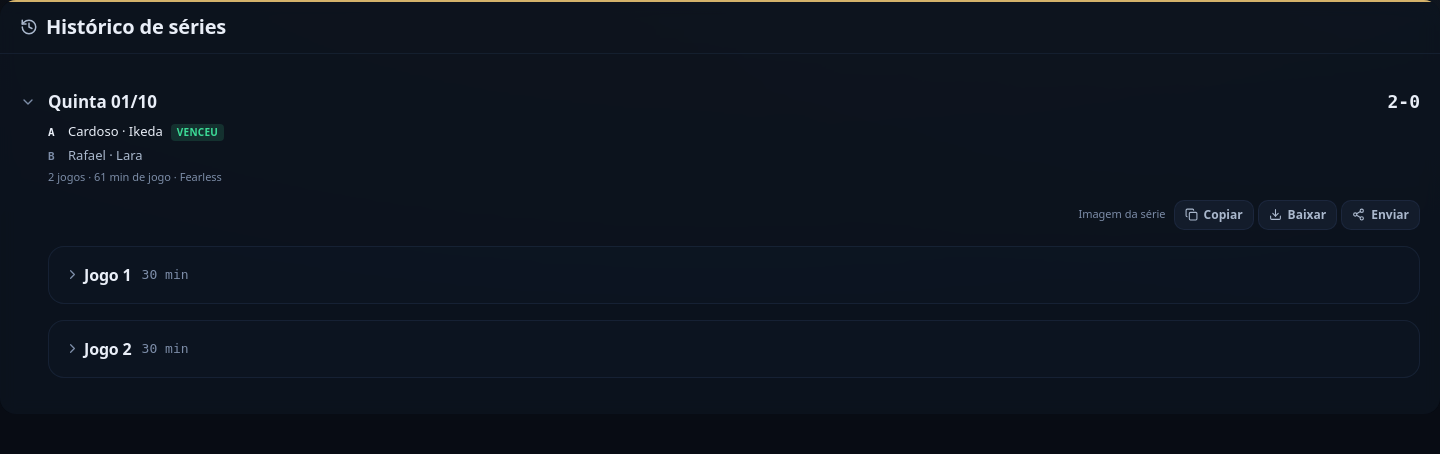
Test: Histórico no celular › tocar no jogo abre e fecha
The width and height of the screenshot is (1440, 454).
Expected: the heading "Jogo 1" is shown, [65,262,132,286]
Click the button "Jogo 1": (98, 274) [65,256,132,292]
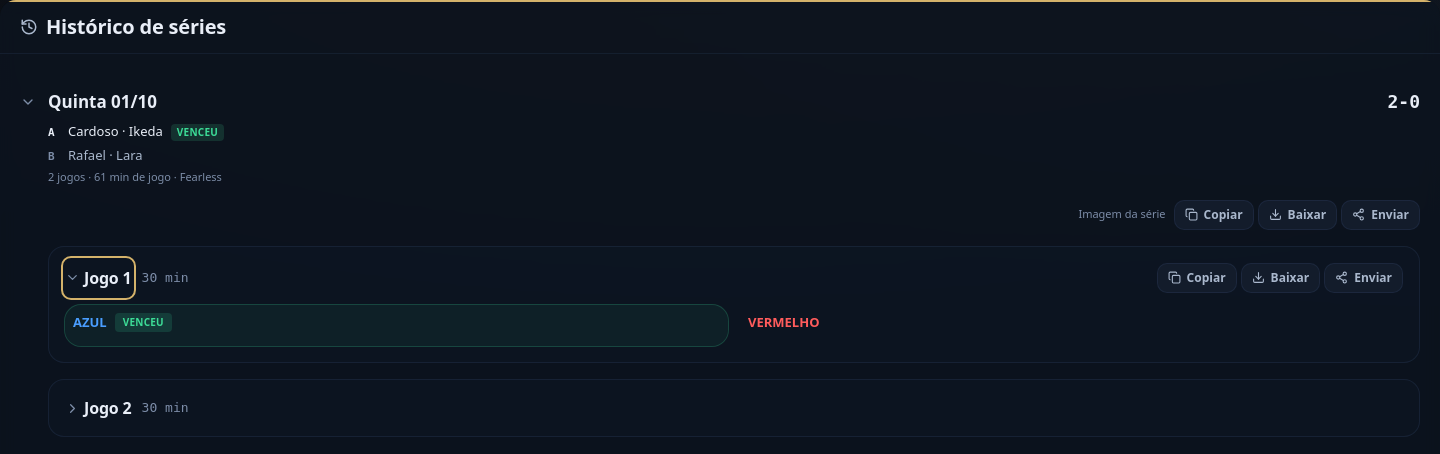
Expected: the button "Baixar" in the row of "Imagem da série" is shown, [1258,200,1337,230]
Now the button "Jogo 1" is expanded
Click the button "Jogo 1": (98, 278) [65,260,132,296]
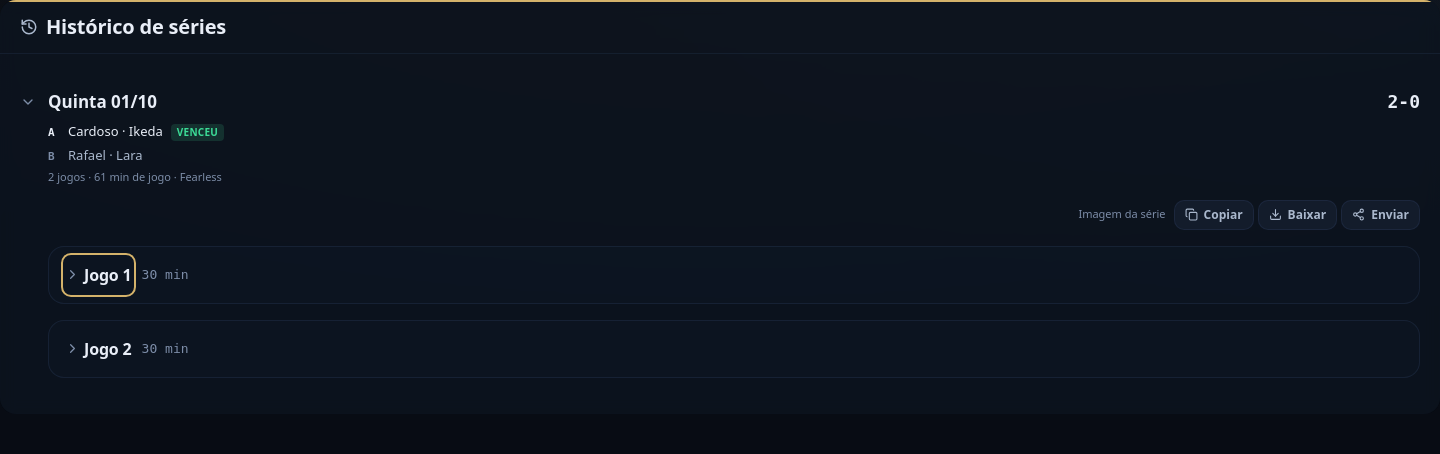
Now the button "Jogo 1" is collapsed, box [65,256,132,292]
